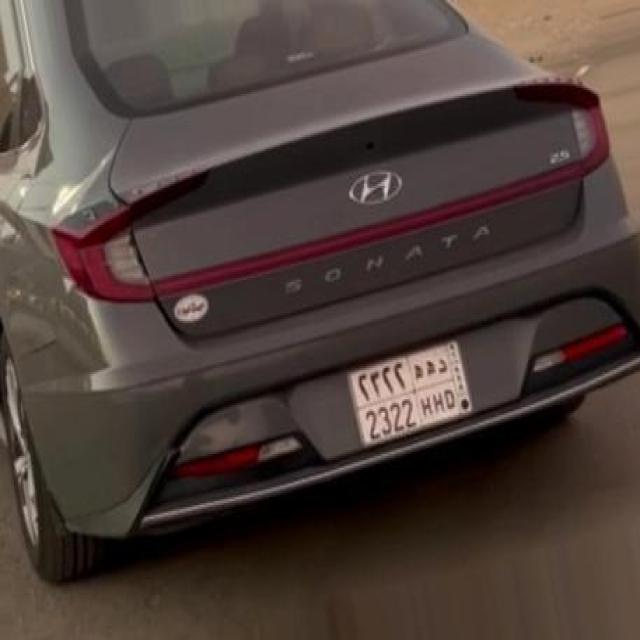Car-plate: (340, 324, 480, 458)
